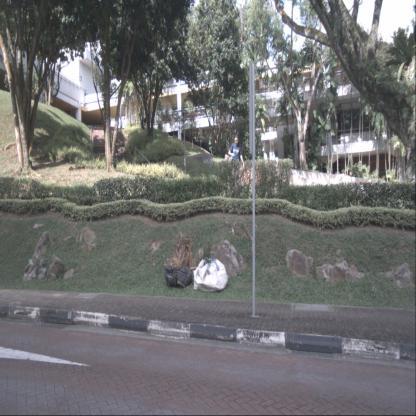human-pedestrian-adult: (228, 135, 244, 200)
